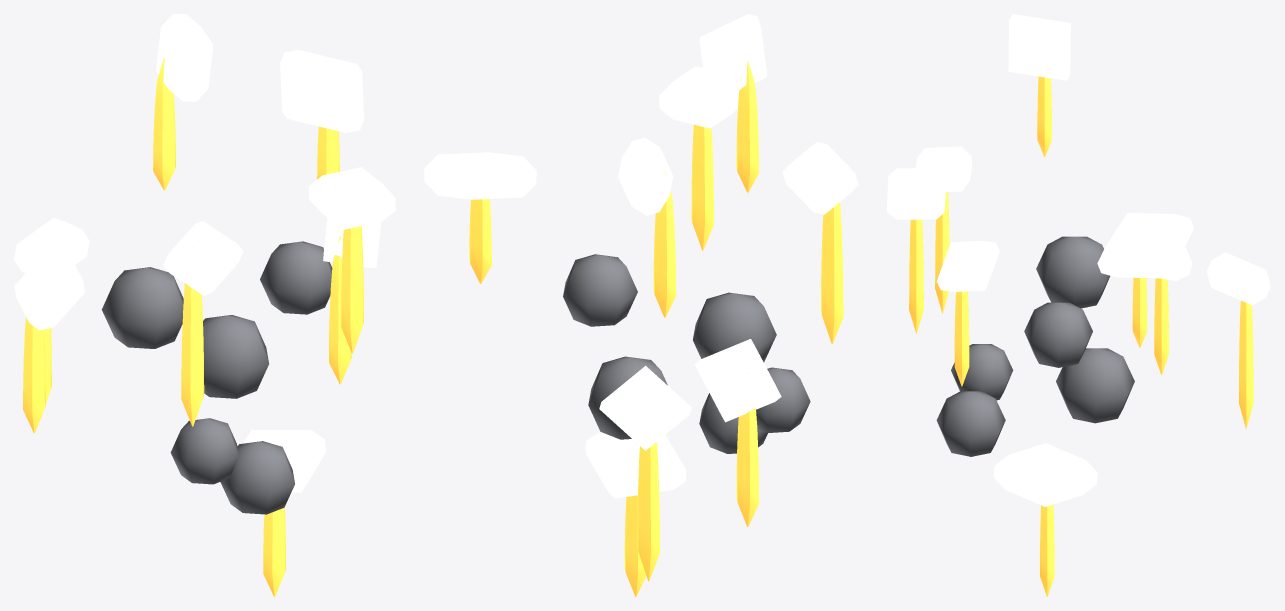
The model's file is fx_ember.glb.
3 renders of one model, left to right at view 1: azimuth 30°, elevation 25°; view 2: azimuth 150°, elevation 25°; view 3: azimuth 270°, elevation 25°, orthographic. The views are drawn at different scales.
Visible parts, largest first — view 1: ember-cluster; view 2: ember-cluster; view 3: ember-cluster.
Boxes of the visible parts, box(x1,y1,x2,y2) form: ember-cluster: box(14, 14, 395, 596); ember-cluster: box(424, 14, 858, 596); ember-cluster: box(887, 14, 1270, 596).
Bounding box in the file's own units: 0.5753 × 0.9461 × 0.6127.
